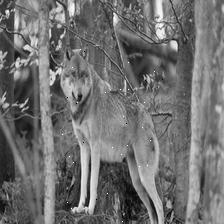WOLF: (60, 50, 163, 224)
